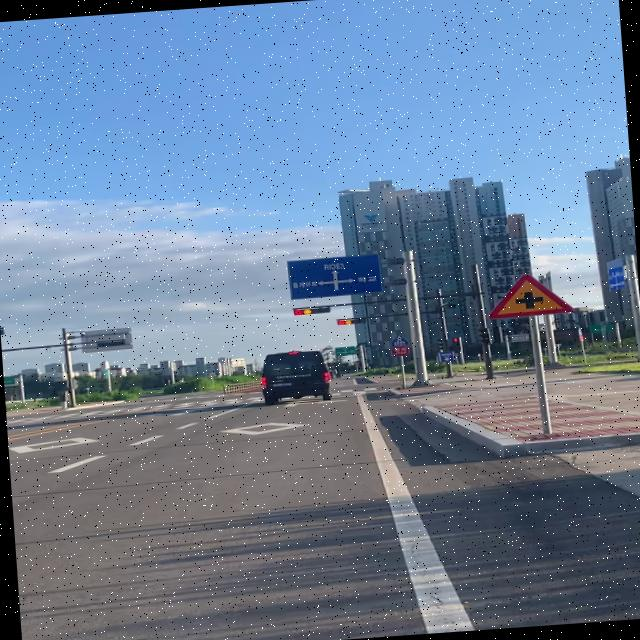yellow_light: (294, 307, 329, 315), (337, 318, 366, 324)
